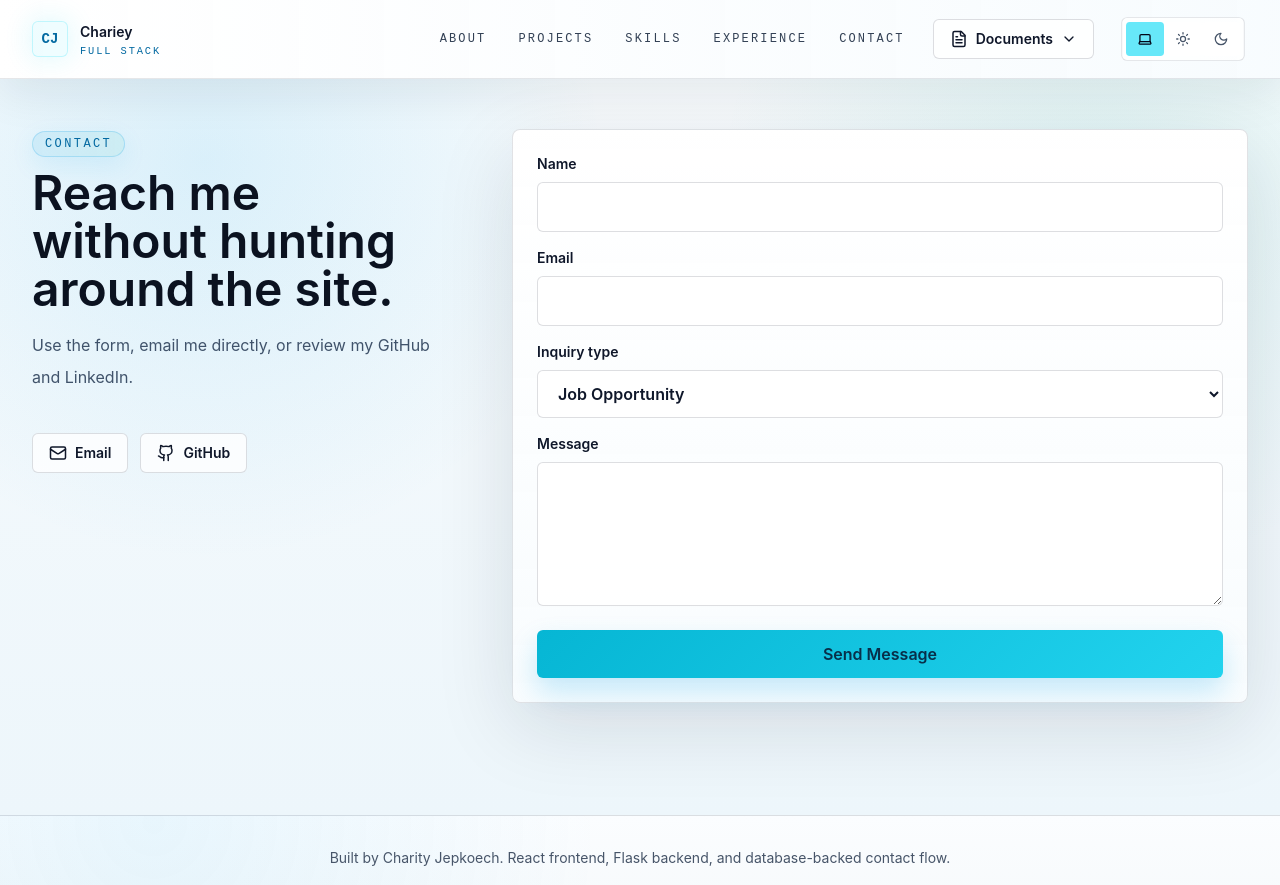
portfolio app › validates the contact form before submitting
This screenshot has width=1280, height=885.
(page scrolled)
Click the button "Send Message": (880, 654) [537,630,1223,678]
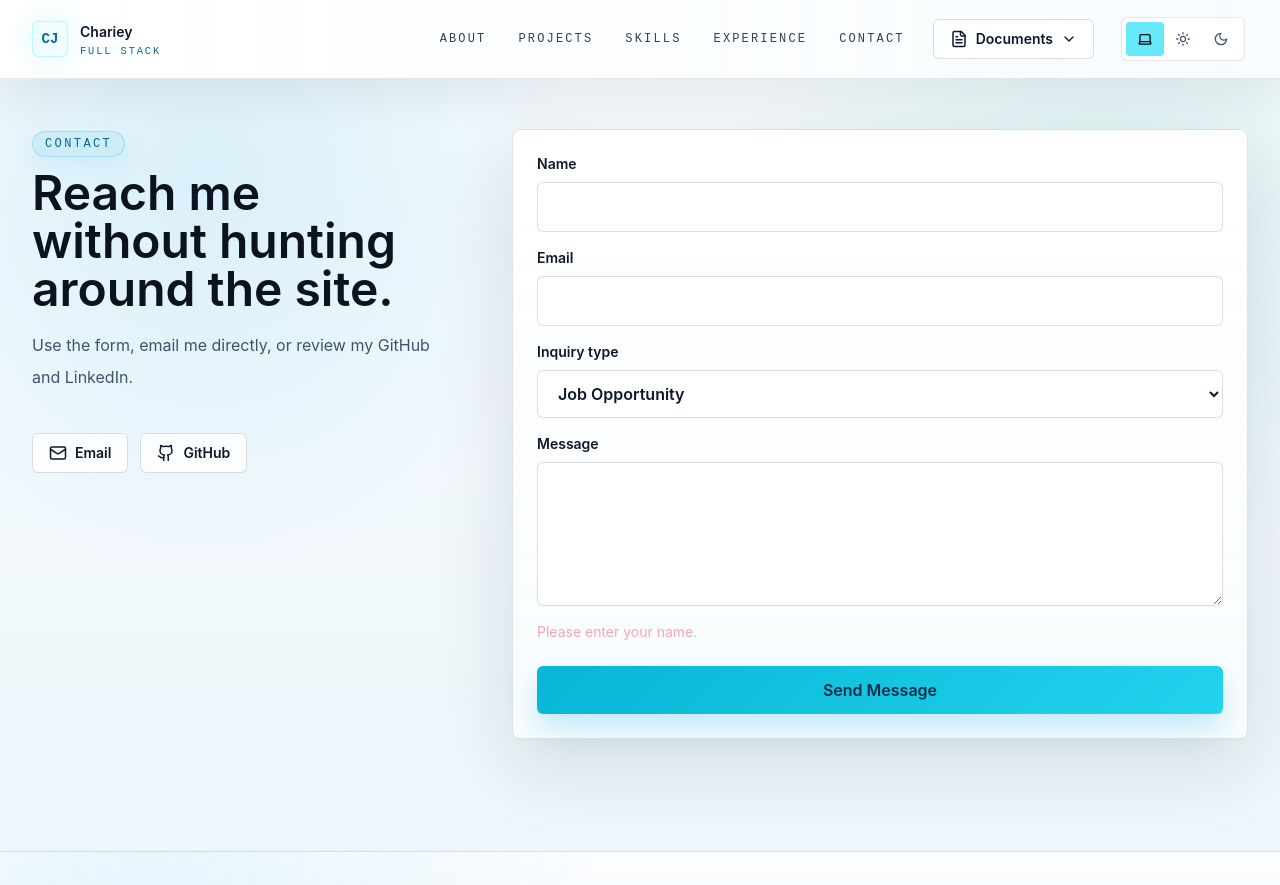
Expected: the text "Please enter your name." is shown, [537,622,697,640]
